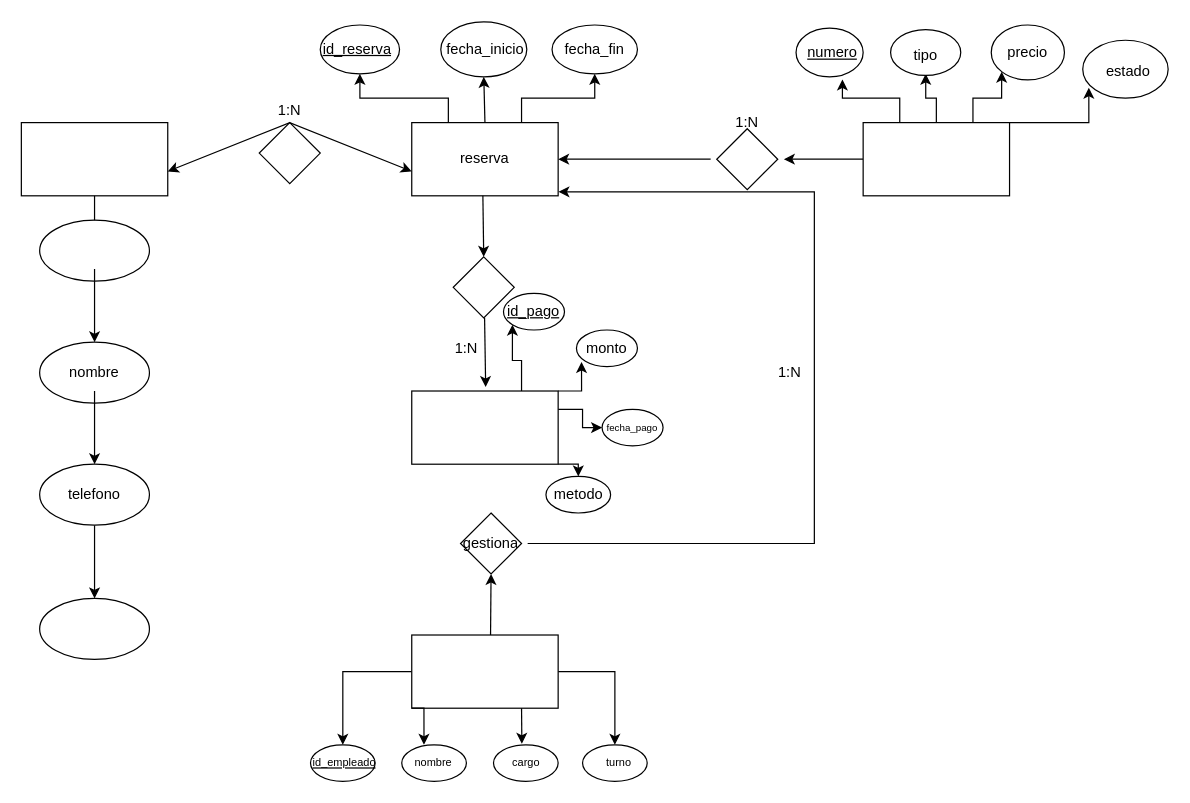
Some shapes in this 1190 by 803 pixel diagram are drawn without their labels. The shapes that lost their labels are listed below. From the top down, each one's centre as x and y in pixels, then its label:
At (94,158): "huesped".
At (289,152): "realiza".
At (747,158): "asigna".
At (936,158): "habitacion".
At (93,250): "id_huesped".
At (483,287): "paga".
At (484,427): "pago".
At (93,628): "direccion".
At (484,671): "empleado".
